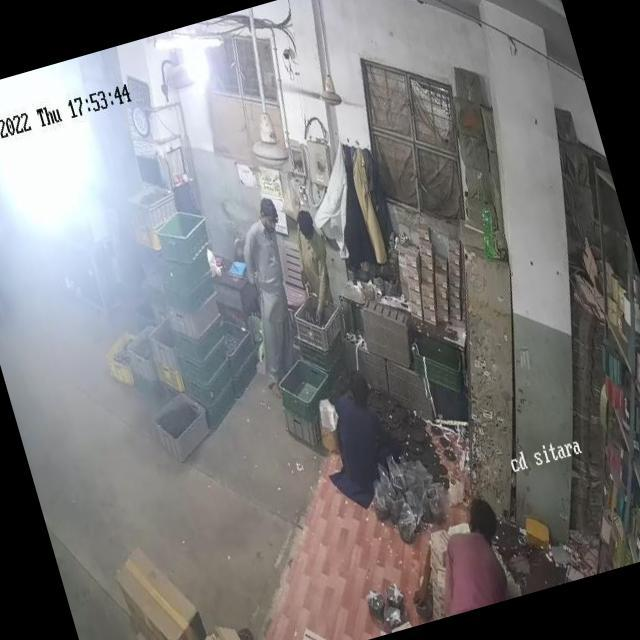person: (228, 194, 320, 382), (324, 362, 408, 498), (424, 494, 517, 614), (284, 205, 341, 325), (0, 209, 15, 272)
